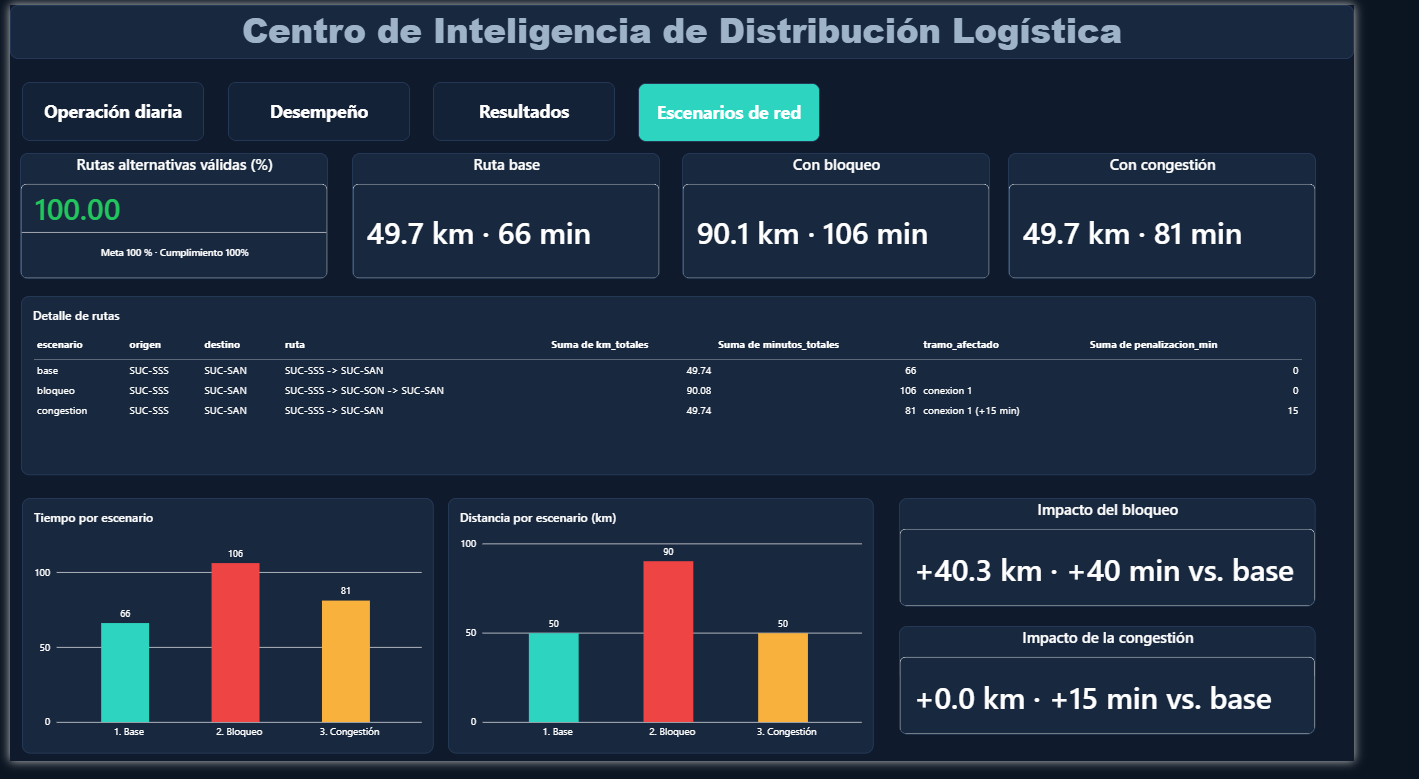

The dashboard page shown, as its layout file describes it:
{"tool":"powerbi","page":{"name":"Escenarios de red","canvas":[1920,1080],"ordinal":3},"visuals":[{"type":"actionButton","box":[16.5,110.3,260,84.3],"z":0},{"type":"actionButton","box":[311,110.3,260,84.3],"z":1000},{"type":"actionButton","box":[604.3,110.3,260,84.3],"z":2000},{"type":"actionButton","box":[897.6,111.4,260,84.3],"z":3000},{"type":"textbox","box":[0,0,1919.7,77.3],"z":4000},{"type":"cardVisual","title":"Rutas alternativas válidas (%)","fields":{"Data":["Medidas.I5"]},"box":[14,212,440,180],"z":5000},{"type":"cardVisual","title":"Ruta base","fields":{"Data":["Medidas 2.Texto base"]},"box":[488,212,440,180],"z":6000},{"type":"cardVisual","title":"Con bloqueo","fields":{"Data":["Medidas 2.Texto bloqueo"]},"box":[960,212,440,180],"z":7000},{"type":"cardVisual","title":"Con congestión","fields":{"Data":["Medidas 2.Texto congestion"]},"box":[1426,212,440,180],"z":8000},{"type":"clusteredColumnChart","title":"Distancia por escenario (km)","fields":{"Category":["dw_resultado_escenario.Escenario ordenado"],"Y":["Sum(dw_resultado_escenario.km_totales)"]},"box":[625,705,607.5,365],"z":9000},{"type":"clusteredColumnChart","title":"Tiempo por escenario","fields":{"Category":["dw_resultado_escenario.Escenario ordenado"],"Y":["Sum(dw_resultado_escenario.minutos_totales)"]},"box":[17.5,705,587.5,365],"z":10000},{"type":"tableEx","title":"Detalle de rutas","fields":{"Values":["dw_resultado_escenario.escenario","dw_resultado_escenario.origen","dw_resultado_escenario.destino","dw_resultado_escenario.ruta","Sum(dw_resultado_escenario.km_totales)","Sum(dw_resultado_escenario.minutos_totales)","dw_resultado_escenario.tramo_afectado","Sum(dw_resultado_escenario.penalizacion_min)"]},"box":[15.2,415.2,1850,256.1],"z":11000},{"type":"cardVisual","title":"Impacto del bloqueo","fields":{"Data":["Medidas 2.Delta bloqueo"]},"box":[1270,705,595,155],"z":12000},{"type":"cardVisual","title":"Impacto de la congestión","fields":{"Data":["Medidas 2.Delta congestion"]},"box":[1270,887.5,595,155],"z":12001}]}

Visuals, with their boxes in screenshot pixels (x1, y1, x2, y2), scaled from the page's 1920x1080 canvas onto the 1419x779 screenshot:
actionButton: crop(12, 80, 204, 140)
actionButton: crop(230, 80, 422, 140)
actionButton: crop(447, 80, 639, 140)
actionButton: crop(663, 80, 856, 141)
textbox: crop(0, 0, 1418, 56)
"Rutas alternativas válidas (%)" cardVisual: crop(10, 153, 336, 283)
"Ruta base" cardVisual: crop(361, 153, 686, 283)
"Con bloqueo" cardVisual: crop(710, 153, 1035, 283)
"Con congestión" cardVisual: crop(1054, 153, 1379, 283)
"Distancia por escenario (km)" clusteredColumnChart: crop(462, 509, 911, 772)
"Tiempo por escenario" clusteredColumnChart: crop(13, 509, 447, 772)
"Detalle de rutas" tableEx: crop(11, 299, 1378, 484)
"Impacto del bloqueo" cardVisual: crop(939, 509, 1378, 620)
"Impacto de la congestión" cardVisual: crop(939, 640, 1378, 752)
